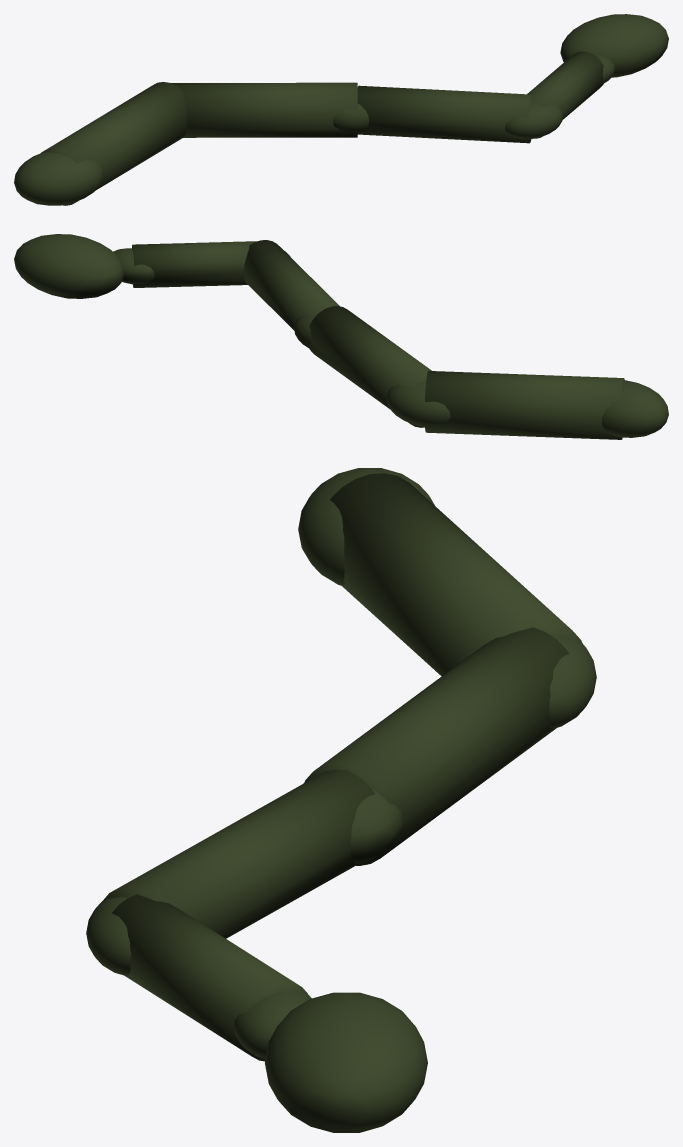
File: snake-corpse.obj
3 views of the same model, one above another, from view 1: azimuth 30°, elevation 25°; view 2: azimuth 150°, elevation 25°; view 3: azimuth 270°, elevation 25° (orthographic). The views are drawn at different scales.
Visible parts, largest first — view 1: snake-corpse; view 2: snake-corpse; view 3: snake-corpse.
Part boxes in pixels (x1,y1,x2,y2): snake-corpse: [14, 14, 668, 205]; snake-corpse: [14, 234, 668, 439]; snake-corpse: [86, 468, 596, 1132].
Bounding box in the file's own units: 1.27 × 0.1048 × 0.4384.
